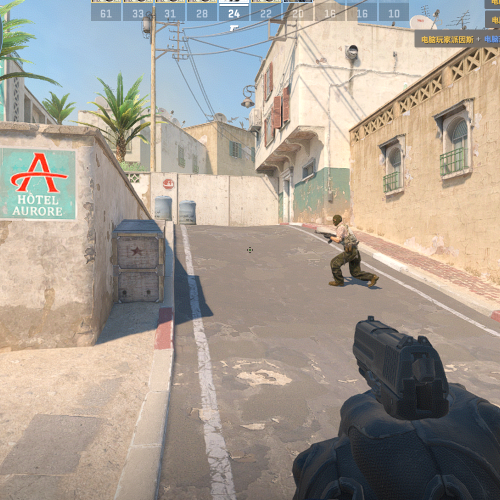t_body: (329, 215, 379, 288)
t_head: (332, 214, 342, 228)
